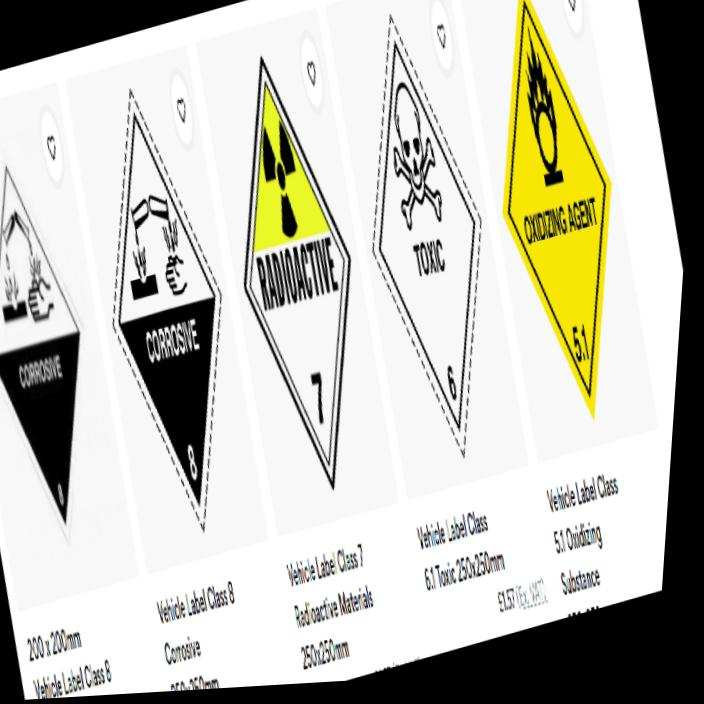defibrillator: (503, 0, 610, 417)
door: (373, 16, 481, 454)
doorway: (244, 58, 350, 488)
elevator buttons: (112, 90, 221, 530), (0, 167, 80, 538)
